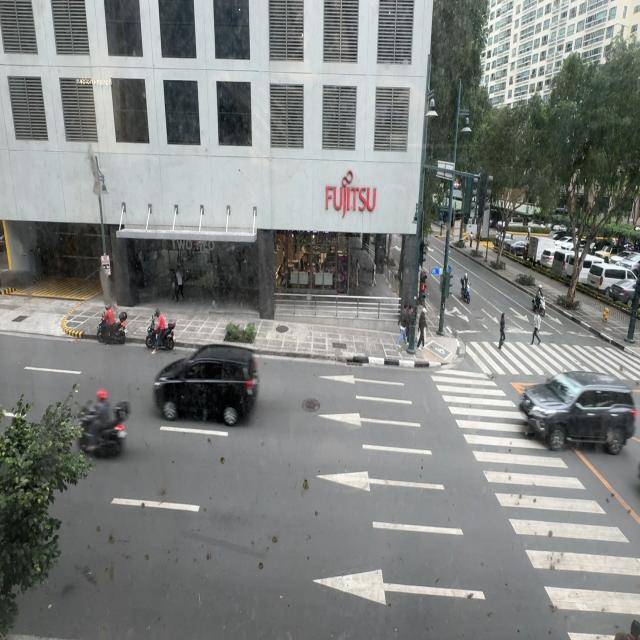crossing: (531, 308, 541, 344), (498, 311, 506, 347)
